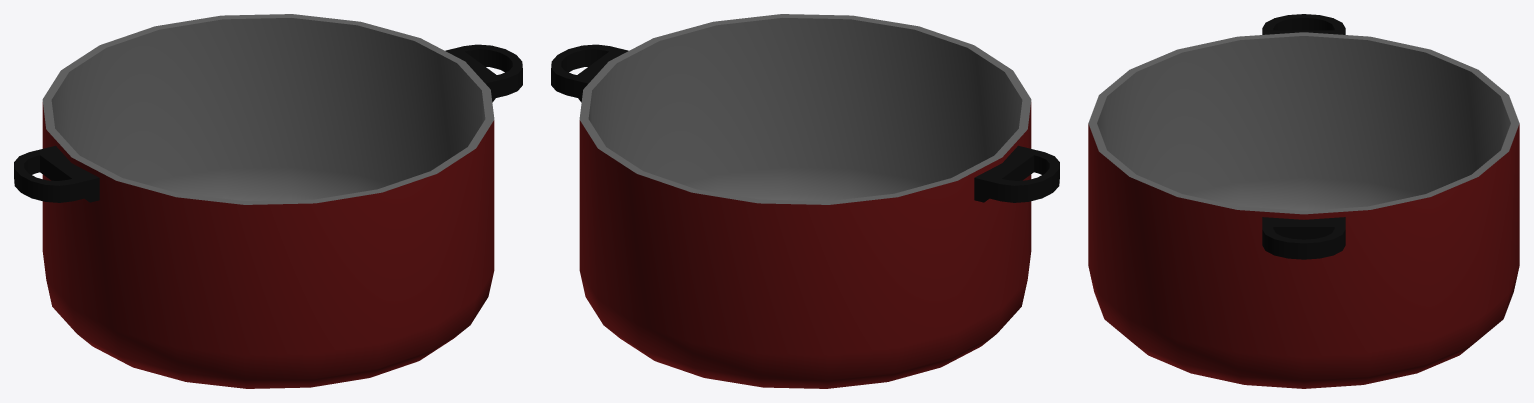
File: Pot_A.FBX
3 renders of one model, left to right at view 1: azimuth 30°, elevation 25°; view 2: azimuth 150°, elevation 25°; view 3: azimuth 270°, elevation 25°, orthographic. The views are drawn at different scales.
Visible parts, largest first — view 1: Pot_A; view 2: Pot_A; view 3: Pot_A.
Part boxes in pixels (x1=…): Pot_A: x1=14, y1=14, x2=522, y2=388; Pot_A: x1=551, y1=14, x2=1059, y2=388; Pot_A: x1=1088, y1=14, x2=1519, y2=388.
Size of the model in its own units: 103 by 39.53 by 81.64.
